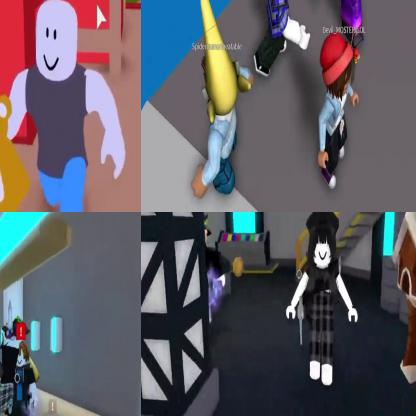Roblox-Avatar: (7, 1, 127, 212), (191, 1, 256, 201), (287, 213, 359, 386), (319, 33, 360, 191), (255, 1, 312, 79), (331, 1, 386, 49)
